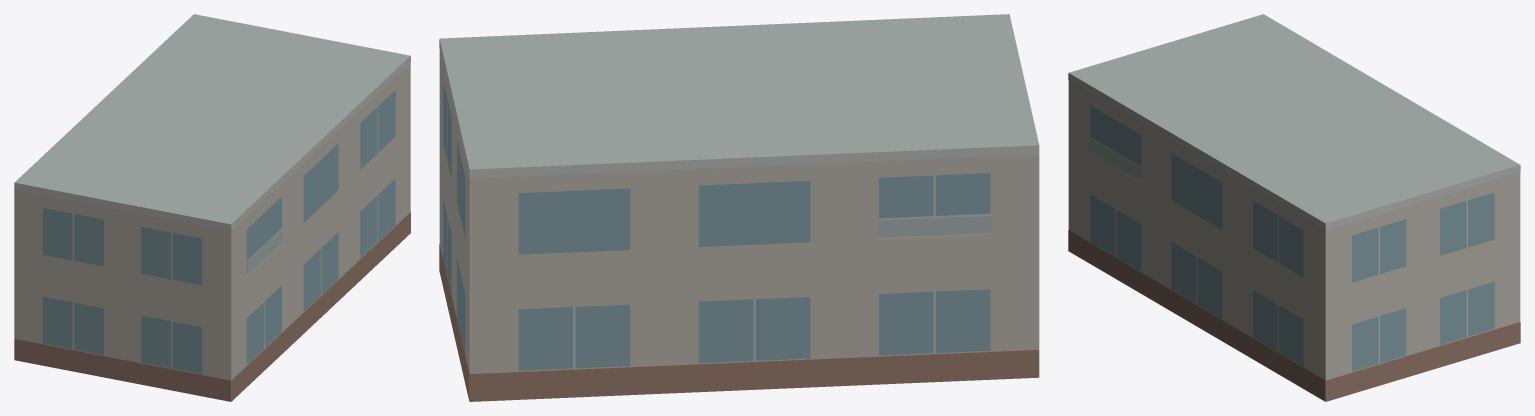
Rendered from survey-upis-32941215.glb.
The picture shows the model from 3 angles, left to right: view 1: azimuth 30°, elevation 25°; view 2: azimuth 150°, elevation 25°; view 3: azimuth 270°, elevation 25°; orthographic projection. The views are drawn at different scales.
Visible parts, largest first — view 1: survey-upis-32941215.tmp; view 2: survey-upis-32941215.tmp; view 3: survey-upis-32941215.tmp.
Part boxes in pixels (bbox=[...]): survey-upis-32941215.tmp: bbox=[14, 14, 410, 401]; survey-upis-32941215.tmp: bbox=[439, 14, 1039, 401]; survey-upis-32941215.tmp: bbox=[1068, 14, 1520, 401].
Bounding box in the file's own units: 15.38 × 6.1 × 14.02.
